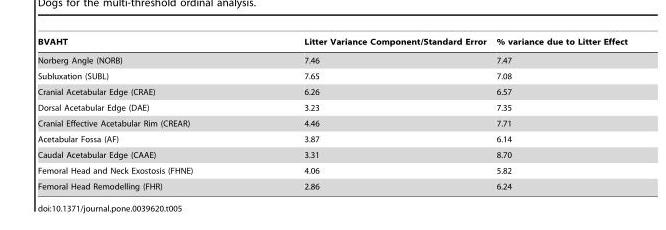table: (37, 37, 626, 190)
table column: (247, 37, 490, 190), (37, 37, 247, 190), (490, 37, 626, 190)
table column header: (37, 37, 626, 50)
table row: (37, 50, 626, 68), (37, 83, 626, 99), (37, 99, 626, 115), (37, 115, 626, 131), (37, 146, 626, 162), (37, 162, 626, 178), (37, 68, 626, 83), (37, 131, 626, 146), (37, 37, 626, 50), (37, 178, 626, 190)
